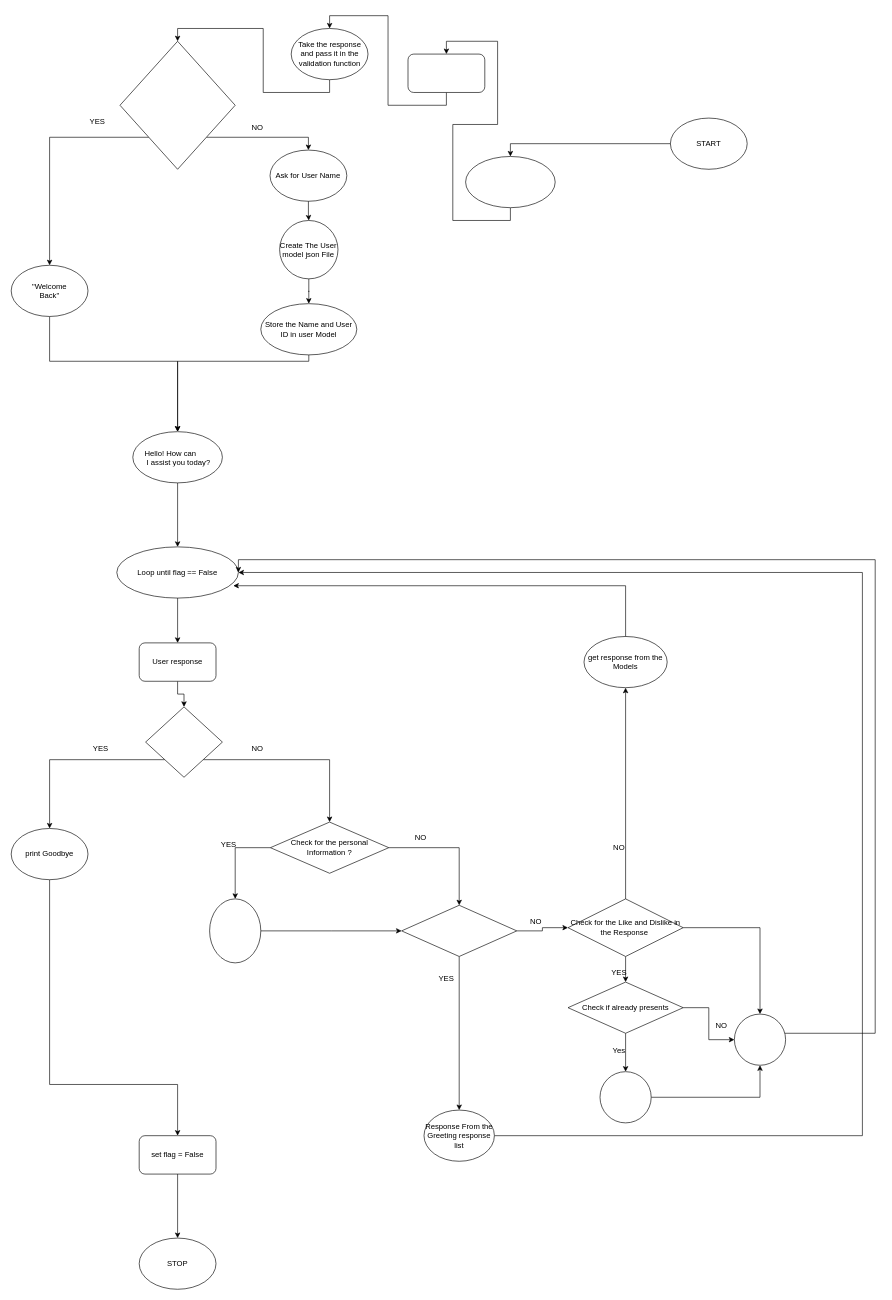
Some shapes in this 892 by 1300 pixel diagram are drawn without their labels. Each missing label, with the box of its shape:
== quit ?: (145, 706, 222, 777)
Bot Introduction asks user for User ID: (465, 156, 555, 208)
Check for the greetings ?: (401, 905, 517, 956)
Does the User ID already Exist ?: (119, 41, 235, 169)
Print(" You still like "): (599, 1071, 651, 1123)
Save in the User Model: (209, 898, 261, 963)
Update the User Model accordingly: (734, 1013, 786, 1065)
User_response: (407, 53, 485, 92)
